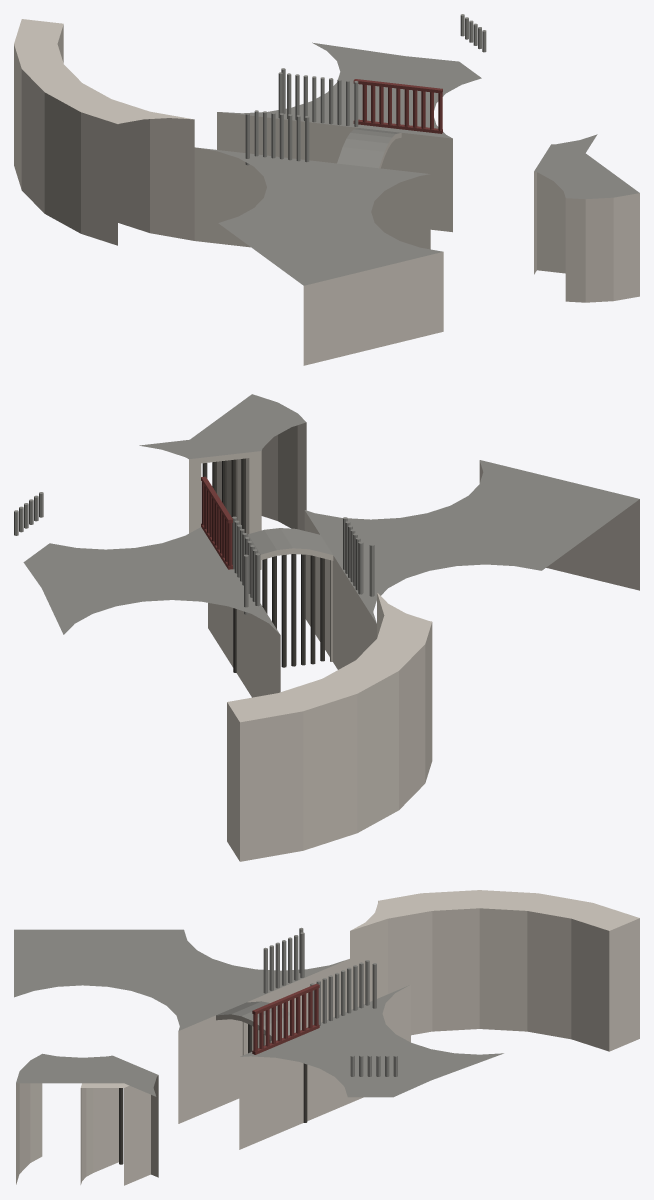
Rendered from CrateRoom.fbx.
3 views of the same model, one above another, from view 1: azimuth 30°, elevation 25°; view 2: azimuth 150°, elevation 25°; view 3: azimuth 270°, elevation 25° (orthographic). The views are drawn at different scales.
Visible parts, largest first — view 1: CrateRoomGrayBox, CrateRoomGrayBox.001, CrateRoomDoor; view 2: CrateRoomGrayBox, CrateRoomGrayBox.001, CrateRoomDoor; view 3: CrateRoomGrayBox, CrateRoomGrayBox.001, CrateRoomDoor.
Boxes of the visible parts, bbox=[...] form: CrateRoomGrayBox: bbox=[14, 19, 639, 365]; CrateRoomGrayBox.001: bbox=[245, 14, 486, 165]; CrateRoomDoor: bbox=[353, 79, 442, 133]; CrateRoomGrayBox: bbox=[23, 394, 639, 861]; CrateRoomGrayBox.001: bbox=[14, 492, 374, 614]; CrateRoomDoor: bbox=[201, 476, 232, 569]; CrateRoomGrayBox: bbox=[14, 890, 639, 1185]; CrateRoomGrayBox.001: bbox=[263, 927, 397, 1076]; CrateRoomDoor: bbox=[252, 983, 319, 1054].
Size of the model in its own units: 41.42 by 14 by 57.98.
Materials: 1 (1 with a texture image).
